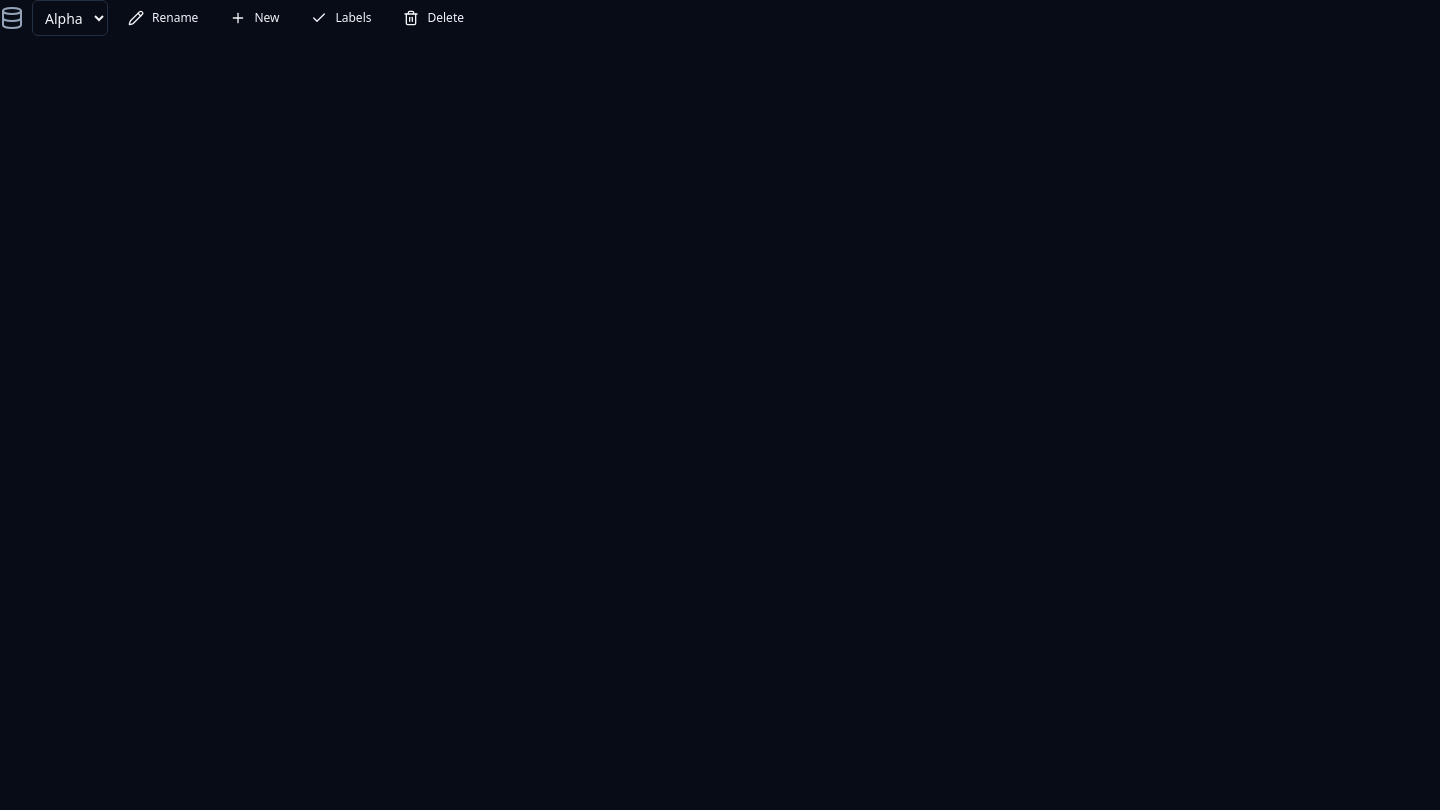
DatasetSwitcher › rejects a rename whose name collides with an existing dataset (Req 19.7)
The width and height of the screenshot is (1440, 810).
Click the button with aria-label "rename active dataset": x=163, y=18 116,2 -> 210,34
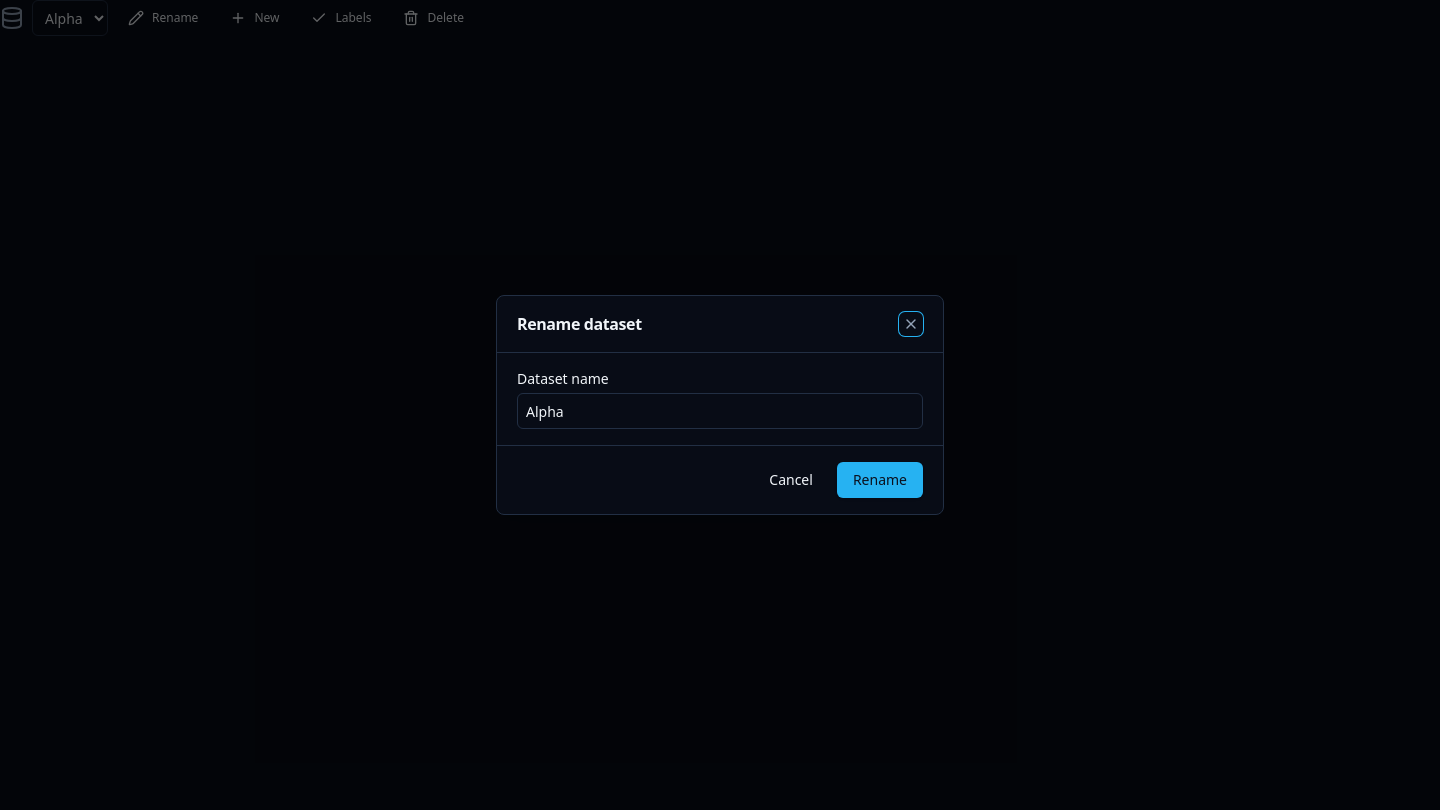
Replace the text in the field labelled "Dataset name" with "Beta": x=720, y=411 517,393 -> 923,429
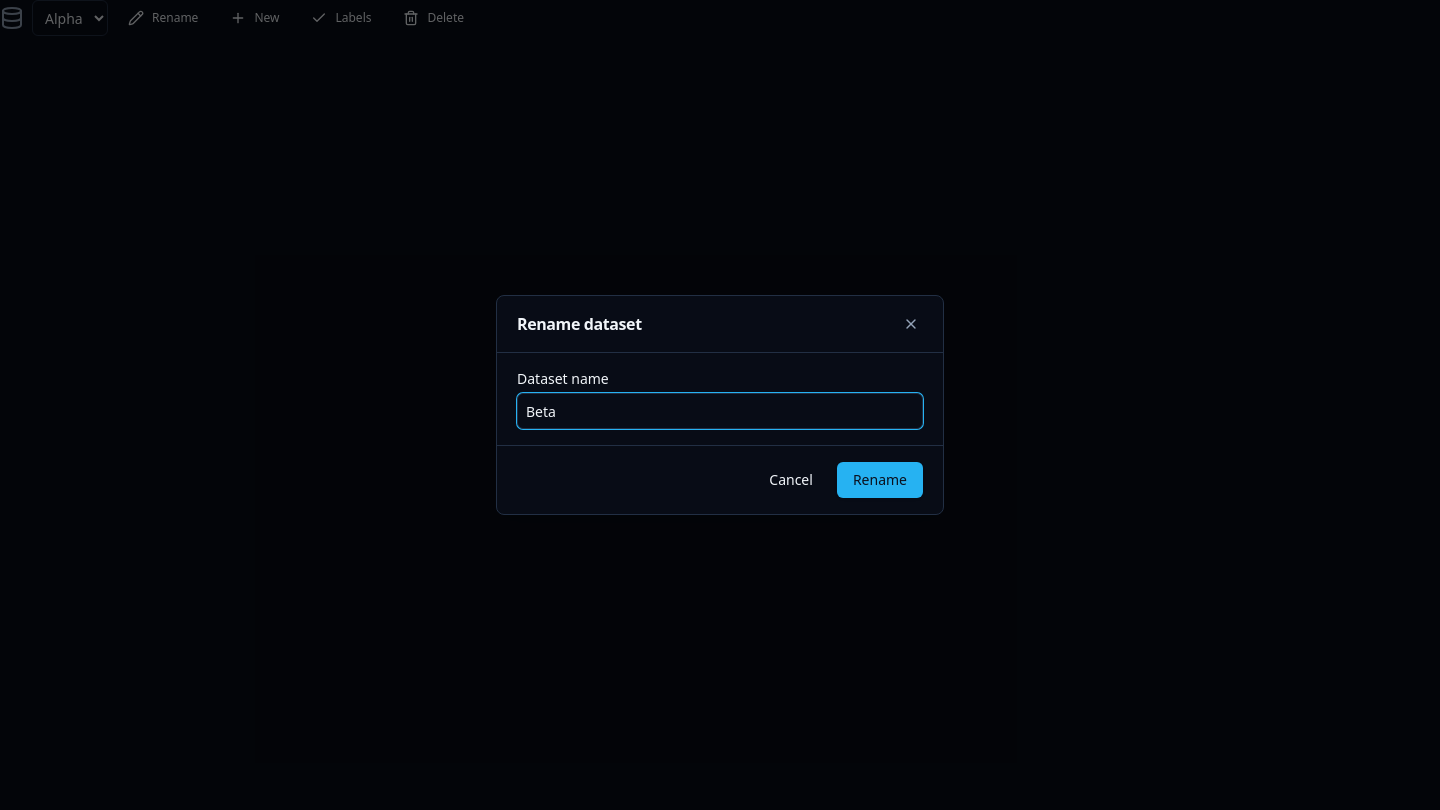
Click the button "Rename" below "Dataset name": x=880, y=480 837,462 -> 923,498
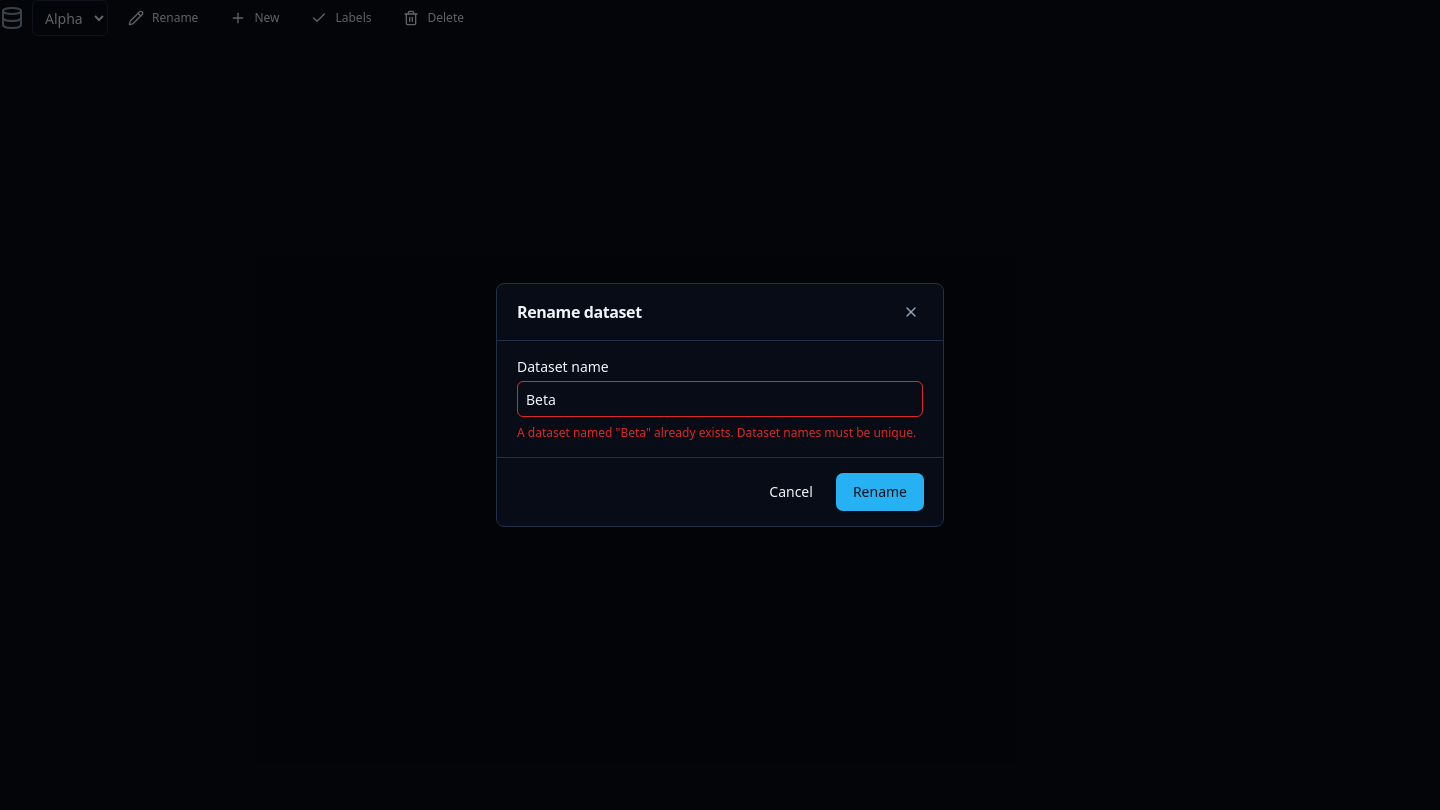
Check: the message shows "must be unique", box 517,424 -> 916,441
